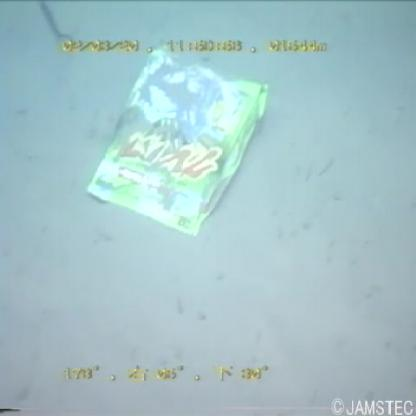Rác: (80, 42, 272, 252)
